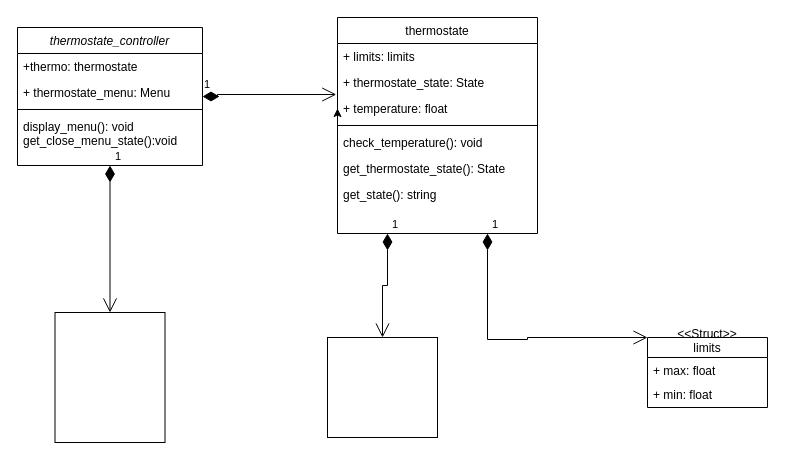
The diagram is 785 pixels wide and 460 high, and some of its shapes have lost their labels. The shapes that lost their labels are listed below. From the top down, each one's box as (x1, y1, x2, y2) in pixels, then its label:
(54, 312, 165, 442): <<Enum>> Menu front_menu modify_max_limit modify_min_limit close modify
(326, 336, 438, 438): <<Enum>> State stop heat cool
